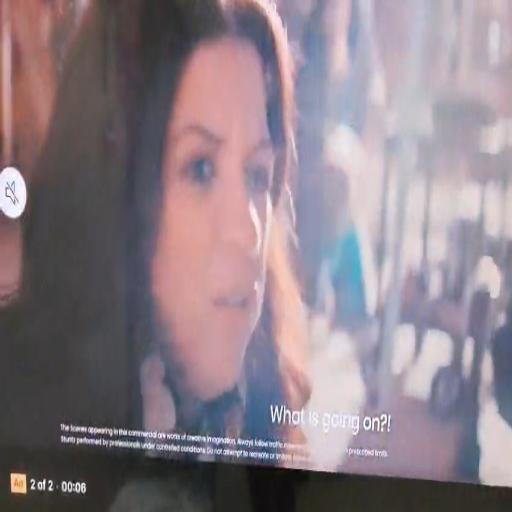ad label: (9, 470, 29, 498)
